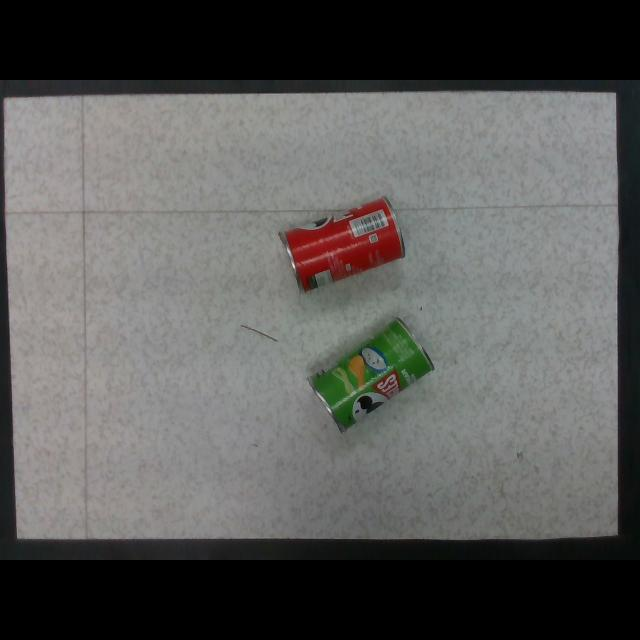canSnack: (309, 318, 435, 432), (279, 197, 405, 292)
